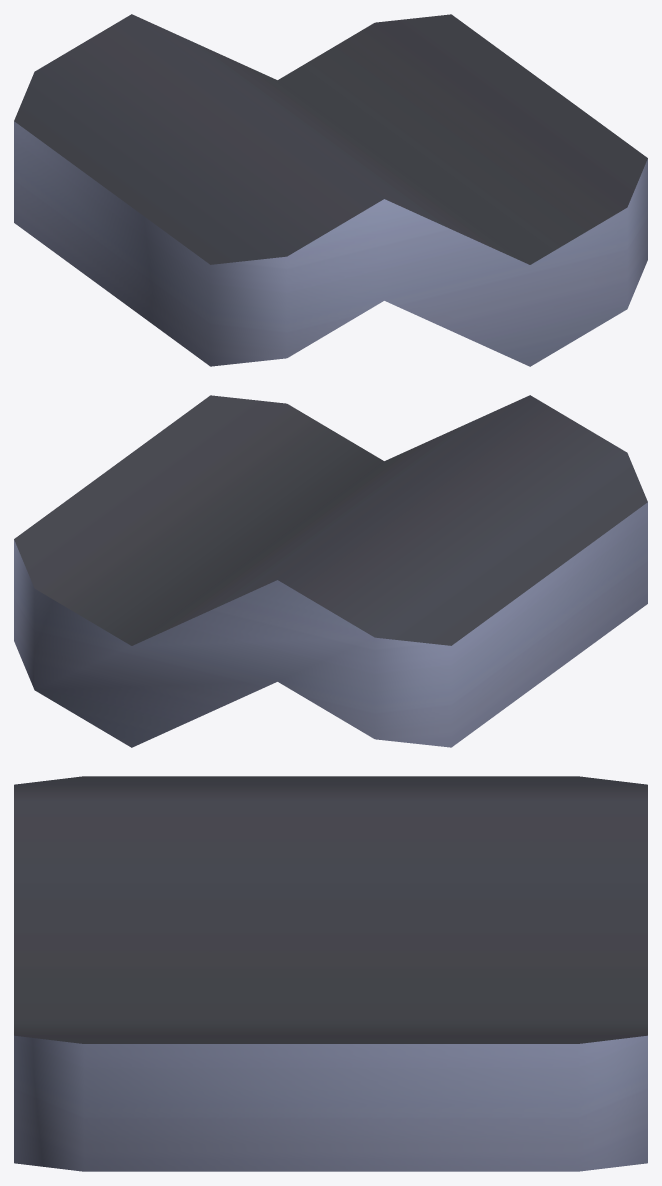
The model's file is kenney-car-debris-plate-small-b.glb.
3 views of the same model, one above another, from view 1: azimuth 30°, elevation 25°; view 2: azimuth 150°, elevation 25°; view 3: azimuth 270°, elevation 25° (orthographic). The views are drawn at different scales.
Parts seen in each view (by area): view 1: debris-plate-small-b; view 2: debris-plate-small-b; view 3: debris-plate-small-b.
Boxes of the visible parts, left/top/right/bottom form: debris-plate-small-b: left=14, top=14, right=647, bottom=366; debris-plate-small-b: left=14, top=395, right=647, bottom=747; debris-plate-small-b: left=14, top=776, right=647, bottom=1171.
Bounding box in the file's own units: 0.45 × 0.2 × 0.45.
1 material, 1 textured.
